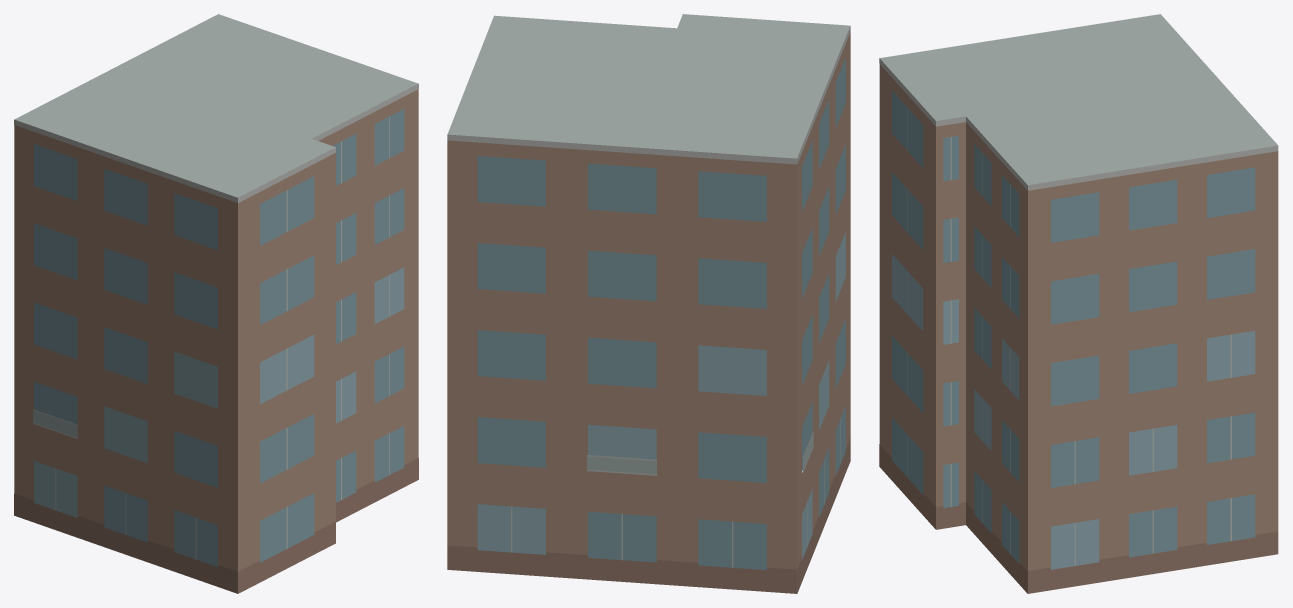
Rendered from survey-upis-32863602.glb.
3 renders of one model, left to right at view 1: azimuth 30°, elevation 25°; view 2: azimuth 150°, elevation 25°; view 3: azimuth 270°, elevation 25°, orthographic. The views are drawn at different scales.
Visible parts, largest first — view 1: survey-upis-32863602.tmp; view 2: survey-upis-32863602.tmp; view 3: survey-upis-32863602.tmp.
Boxes of the visible parts, x1,y1,x2,y2 form: survey-upis-32863602.tmp: (14, 14, 418, 593); survey-upis-32863602.tmp: (447, 14, 850, 593); survey-upis-32863602.tmp: (879, 14, 1278, 593).
Size of the model in its own units: 16.19 by 18 by 15.93.
